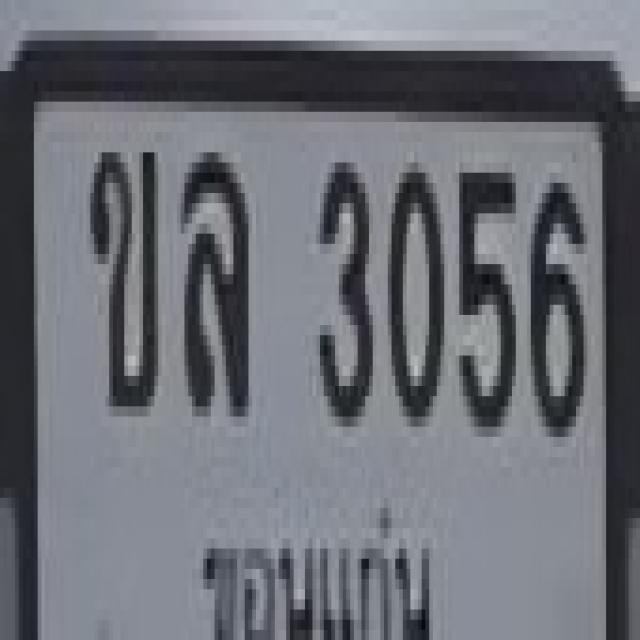-: (86, 142, 154, 406), (177, 142, 245, 406)
0: (384, 152, 440, 416)
3: (314, 152, 371, 416)
5: (456, 162, 512, 426)
6: (527, 172, 580, 426)
KKN: (192, 498, 440, 640)
